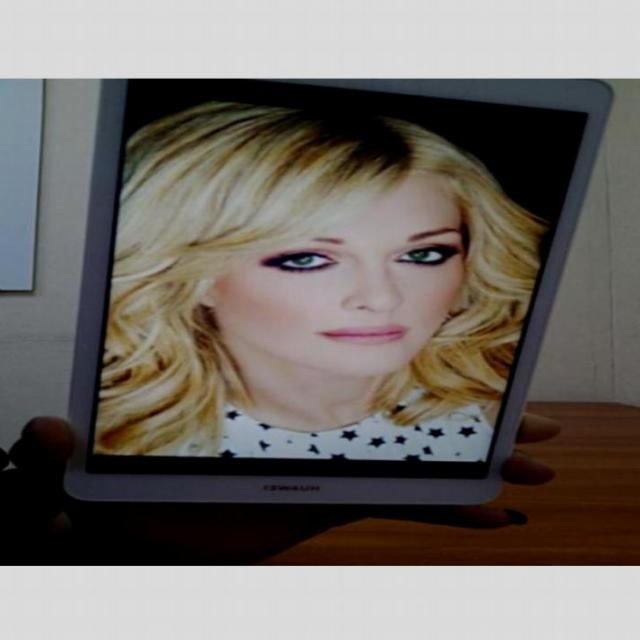device: (48, 78, 615, 515)
